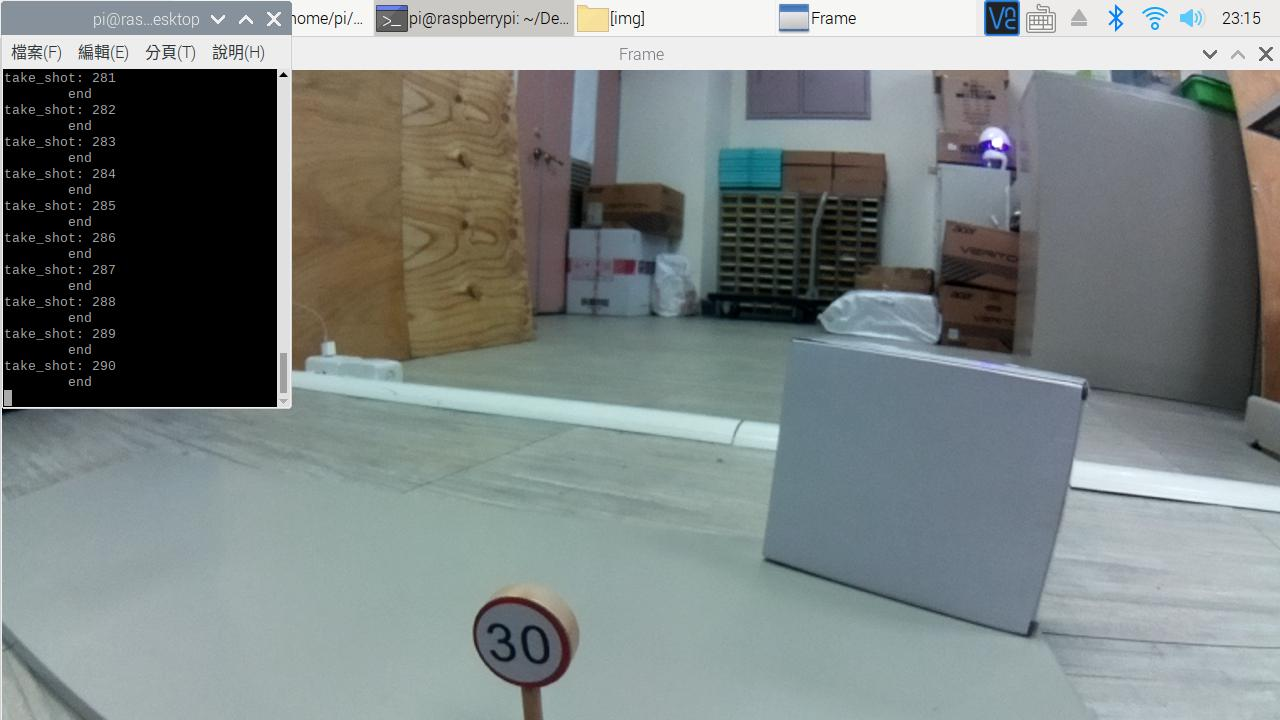Speed30: (463, 581, 600, 698)
